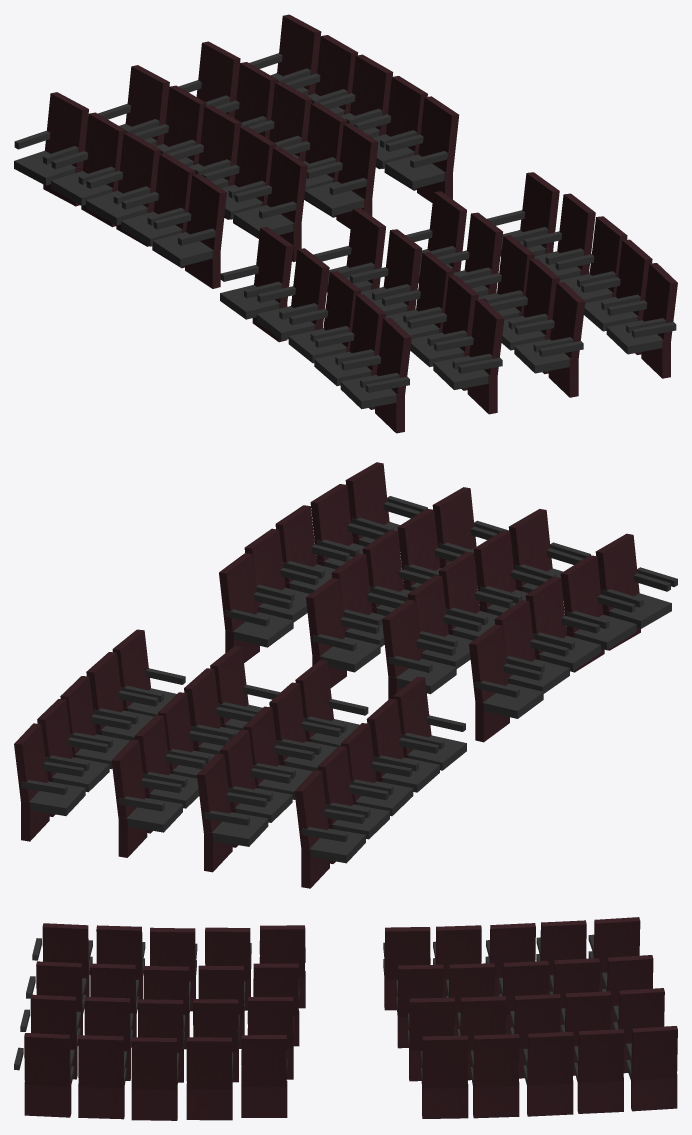
File: Stuhl.obj
3 views of the same model, one above another, from view 1: azimuth 30°, elevation 25°; view 2: azimuth 150°, elevation 25°; view 3: azimuth 270°, elevation 25° (orthographic). The views are drawn at different scales.
Visible parts, largest first — view 1: object 30, object 25, object 60, object 88, object 2, object 49, object 67, object 85, object 39, object 74, object 95, object 9 (+52 smaller); view 2: object 175, object 155, object 200, object 115, object 182, object 132, object 110, object 130, object 178, object 162, object 170, object 122 (+56 smaller); view 3: object 74, object 79, object 175, object 60, object 159, object 65, object 148, object 178, object 85, object 162, object 2, object 88 (+41 smaller).
Boxes of the visible parts, left/top/right/bottom form: object 30: left=125, top=65, right=169, bottom=140; object 25: left=45, top=92, right=88, bottom=167; object 60: left=277, top=14, right=321, bottom=89; object 88: left=337, top=123, right=378, bottom=199; object 2: left=186, top=174, right=226, bottom=250; object 49: left=267, top=147, right=307, bottom=223; object 67: left=196, top=41, right=240, bottom=116; object 85: left=418, top=96, right=459, bottom=172; object 39: left=198, top=105, right=241, bottom=180; object 74: left=350, top=54, right=393, bottom=130; object 95: left=269, top=81, right=312, bottom=157; object 9: left=118, top=132, right=160, bottom=207; object 175: left=345, top=462, right=389, bottom=539; object 155: left=595, top=533, right=639, bottom=610; object 200: left=432, top=487, right=476, bottom=564; object 115: left=508, top=509, right=552, bottom=586; object 182: left=397, top=508, right=440, bottom=586; object 132: left=560, top=555, right=603, bottom=632; object 110: left=473, top=530, right=516, bottom=607; object 130: left=469, top=624, right=508, bottom=702; object 178: left=310, top=484, right=353, bottom=561; object 162: left=219, top=553, right=258, bottom=631; object 170: left=306, top=578, right=345, bottom=656; object 122: left=382, top=600, right=421, bottom=677; object 74: left=527, top=1031, right=573, bottom=1085; object 79: left=473, top=1034, right=519, bottom=1087; object 175: left=24, top=1033, right=70, bottom=1086; object 60: left=631, top=1026, right=677, bottom=1080; object 159: left=186, top=1037, right=232, bottom=1089; object 65: left=578, top=1029, right=624, bottom=1082; object 148: left=131, top=1037, right=177, bottom=1089; object 178: left=78, top=1035, right=124, bottom=1088; object 85: left=422, top=1035, right=467, bottom=1088; object 162: left=241, top=1035, right=286, bottom=1086; object 2: left=384, top=927, right=430, bottom=979; object 88: left=409, top=997, right=454, bottom=1050.
Bounding box in the file's own units: 9.01 × 2.45 × 17.89.
Materials: 2 (2 with a texture image).
